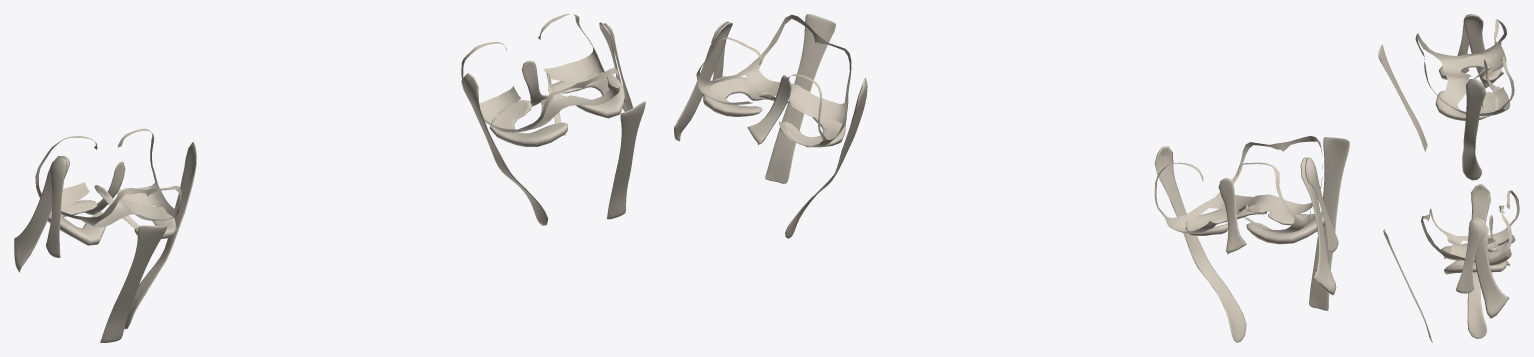
File: joints.glb
3 renders of one model, left to right at view 1: azimuth 30°, elevation 25°; view 2: azimuth 150°, elevation 25°; view 3: azimuth 270°, elevation 25°, orthographic. The views are drawn at different scales.
Visible parts, largest first — view 1: Articular disk of knee joint (×2), Articular cartilage of distal epiphysis of left femur, Articular cartilage of distal epiphysis of right femur, Right patellar ligament, Left patellar ligament, Right tibial collateral ligament, Right fibular collateral ligament, Left tibial collateral ligament, anterolateral ligament of knee, Left posterior cruciate ligament, Right posterior cruciate ligament; view 2: Articular disk of knee joint (×2), Articular cartilage of distal epiphysis of left femur, Articular cartilage of distal epiphysis of right femur, Left patellar ligament, Right tibial collateral ligament, Right patellar ligament, Left fibular collateral ligament, Right fibular collateral ligament, Left tibial collateral ligament, Right posterior cruciate ligament, Left posterior cruciate ligament, anterolateral ligament of knee; view 3: Articular cartilage of distal epiphysis of right femur, Articular disk of knee joint (×2), Articular cartilage of distal epiphysis of left femur, Right tibial collateral ligament, Left tibial collateral ligament, Left fibular collateral ligament, anterolateral ligament of knee (×2), Right fibular collateral ligament, Right patellar ligament, Left patellar ligament, Right posterior cruciate ligament.
Boxes of the visible parts, box(x1,y1,x2,y2) form: Articular disk of knee joint (×2): box(47, 72, 624, 245); Articular cartilage of distal epiphysis of left femur: box(461, 14, 619, 132); Articular cartilage of distal epiphysis of right femur: box(35, 128, 181, 227); Right patellar ligament: box(100, 225, 167, 342); Left patellar ligament: box(607, 101, 645, 219); Right tibial collateral ligament: box(124, 141, 196, 329); Right fibular collateral ligament: box(14, 156, 69, 272); Left tibial collateral ligament: box(461, 73, 548, 225); anterolateral ligament of knee: box(46, 157, 66, 257); Left posterior cruciate ligament: box(521, 60, 547, 106); Right posterior cruciate ligament: box(85, 161, 125, 215); Articular disk of knee joint (×2): box(703, 76, 1325, 244); Articular cartilage of distal epiphysis of left femur: box(696, 15, 851, 147); Articular cartilage of distal epiphysis of right femur: box(1154, 136, 1322, 233); Left patellar ligament: box(765, 14, 835, 183); Right tibial collateral ligament: box(1154, 146, 1246, 342); Right patellar ligament: box(1309, 137, 1349, 310); Left fibular collateral ligament: box(674, 22, 732, 141); Right fibular collateral ligament: box(1300, 157, 1336, 295); Left tibial collateral ligament: box(785, 78, 867, 238); Right posterior cruciate ligament: box(1218, 178, 1246, 254); Left posterior cruciate ligament: box(747, 75, 791, 144); anterolateral ligament of knee: box(1305, 157, 1338, 252); Articular cartilage of distal epiphysis of right femur: box(1415, 19, 1514, 116); Articular disk of knee joint (×2): box(1435, 54, 1506, 274); Articular cartilage of distal epiphysis of left femur: box(1421, 190, 1519, 265); Right tibial collateral ligament: box(1462, 78, 1485, 180); Left tibial collateral ligament: box(1467, 183, 1490, 338); Left fibular collateral ligament: box(1469, 218, 1509, 318); anterolateral ligament of knee (×2): box(1456, 14, 1485, 293); Right fibular collateral ligament: box(1464, 14, 1503, 88); Right patellar ligament: box(1378, 44, 1427, 151); Left patellar ligament: box(1383, 229, 1432, 342); Right posterior cruciate ligament: box(1484, 59, 1499, 91).
Bounding box in the file's own units: 0.3687 × 0.1095 × 0.096.
